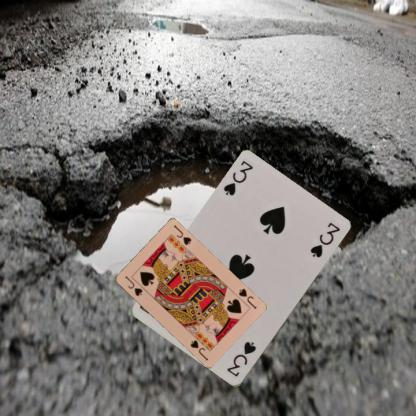3s: (224, 339, 258, 379), (221, 158, 254, 198)
Js: (235, 286, 258, 310), (122, 273, 144, 298)
